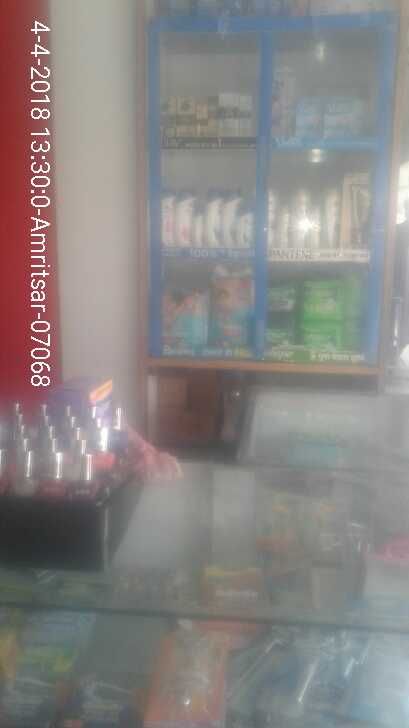venus: (324, 97, 364, 137), (297, 98, 321, 134)
